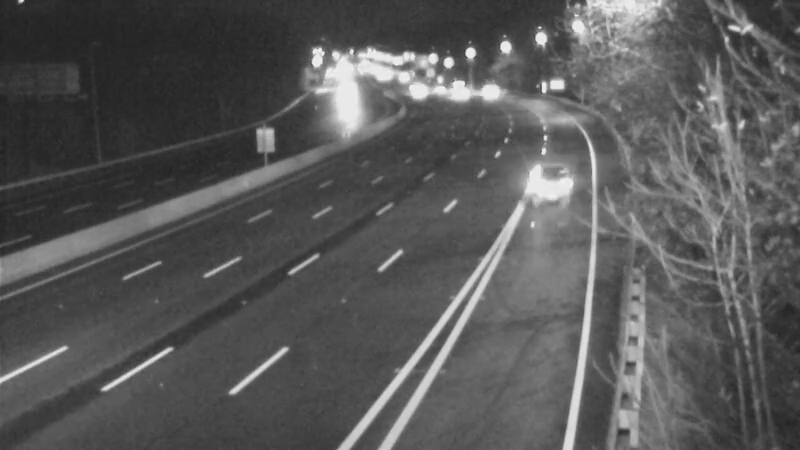vehicle: (520, 144, 600, 224), (448, 64, 498, 114), (391, 69, 441, 119), (431, 70, 481, 120)
